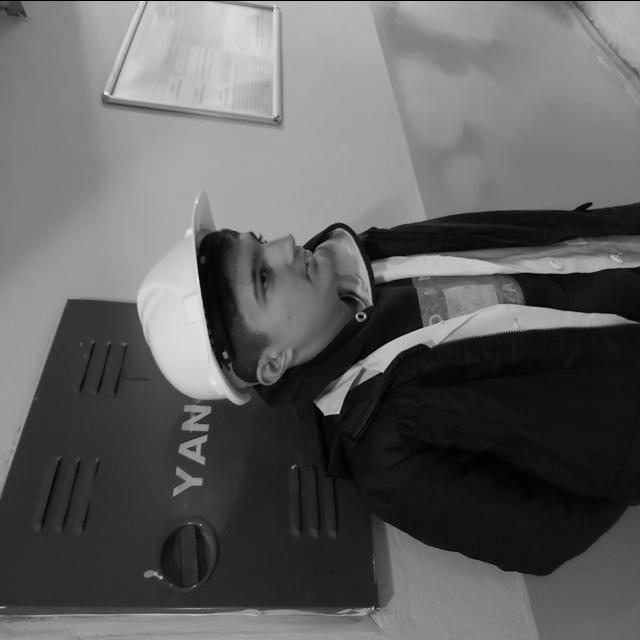construction helmet: (138, 189, 256, 405)
